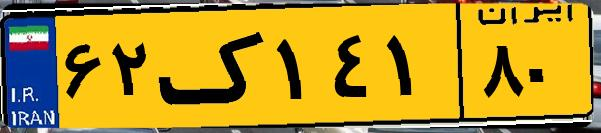0: (525, 38, 570, 115)
1: (270, 28, 330, 110), (385, 28, 445, 110)
2: (110, 28, 158, 98)
4: (330, 28, 385, 110)
6: (57, 26, 110, 100)
8: (475, 38, 525, 113)
ک: (158, 12, 270, 120)
